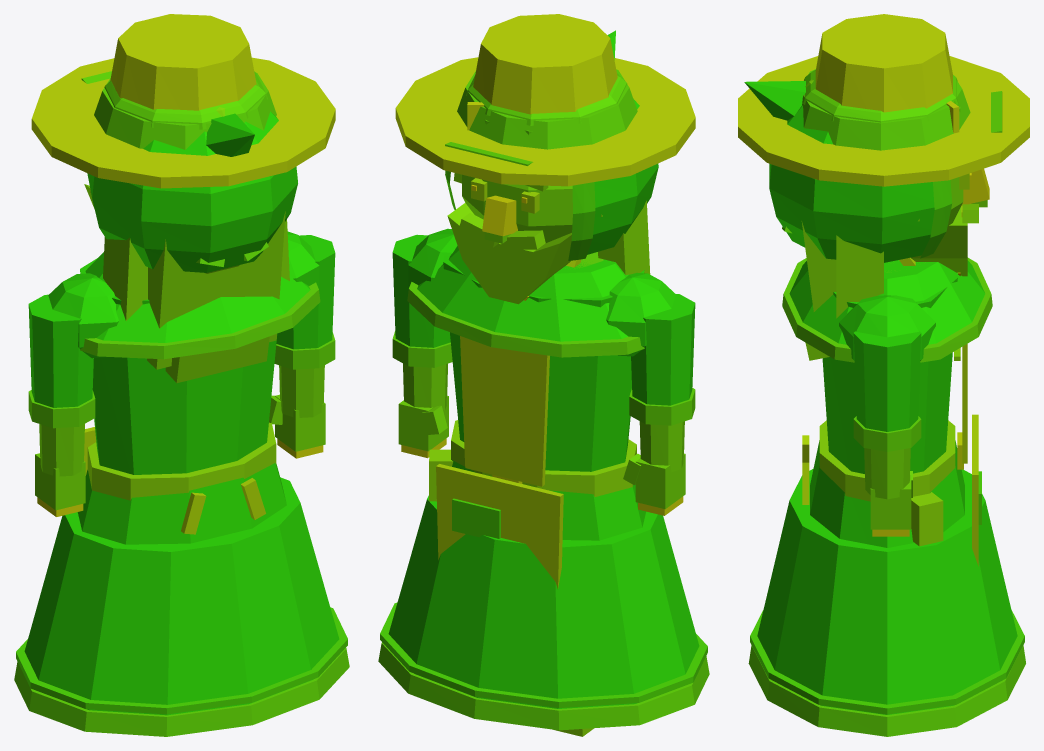
File: villager.glb
3 views of the same model, side by side, from view 1: azimuth 30°, elevation 25°; view 2: azimuth 150°, elevation 25°; view 3: azimuth 270°, elevation 25° (orthographic).
Parts seen in each view (by area): view 1: vp_dress, vp_torso, vp_hat_brim, vp_hat_hood, vp_hair_long, vp_arm_l, vp_arm_r, vp_hat_cap, vp_apron; view 2: vp_dress, vp_hat_brim, vp_torso, vp_apron, vp_hat_hood, vp_arm_l, vp_arm_r, vp_hat_cap, vp_beard, vp_hair_long; view 3: vp_dress, vp_hat_brim, vp_hat_hood, vp_torso, vp_arm_r, vp_hat_cap, vp_hair_long, vp_apron, vp_beard.
Part boxes in pixels (bbox=[...]): vp_dress: bbox=[14, 477, 349, 736]; vp_torso: bbox=[48, 231, 319, 544]; vp_hat_brim: bbox=[31, 14, 335, 188]; vp_hat_hood: bbox=[80, 111, 320, 359]; vp_hair_long: bbox=[103, 211, 289, 383]; vp_arm_l: bbox=[28, 294, 95, 516]; vp_arm_r: bbox=[269, 235, 335, 458]; vp_hat_cap: bbox=[81, 71, 276, 149]; vp_apron: bbox=[84, 427, 265, 534]; vp_dress: bbox=[378, 495, 709, 730]; vp_hat_brim: bbox=[395, 14, 695, 186]; vp_torso: bbox=[408, 174, 675, 540]; vp_apron: bbox=[436, 259, 581, 588]; vp_hat_hood: bbox=[407, 30, 658, 357]; vp_arm_l: bbox=[623, 294, 695, 515]; vp_arm_r: bbox=[392, 234, 452, 458]; vp_hat_cap: bbox=[445, 69, 637, 165]; vp_beard: bbox=[447, 203, 571, 304]; vp_hair_long: bbox=[598, 200, 650, 274]; vp_dress: bbox=[748, 469, 1025, 736]; vp_hat_brim: bbox=[738, 14, 1029, 186]; vp_hat_hood: bbox=[744, 81, 992, 362]; vp_torso: bbox=[810, 168, 989, 547]; vp_arm_r: bbox=[853, 331, 921, 536]; vp_hat_cap: bbox=[802, 69, 1002, 150]; vp_hair_long: bbox=[801, 221, 883, 360]; vp_apron: bbox=[802, 257, 981, 566]; vp_beard: bbox=[911, 203, 978, 276].
Size of the model in its own units: 1.02 by 2.11 by 0.8584.
